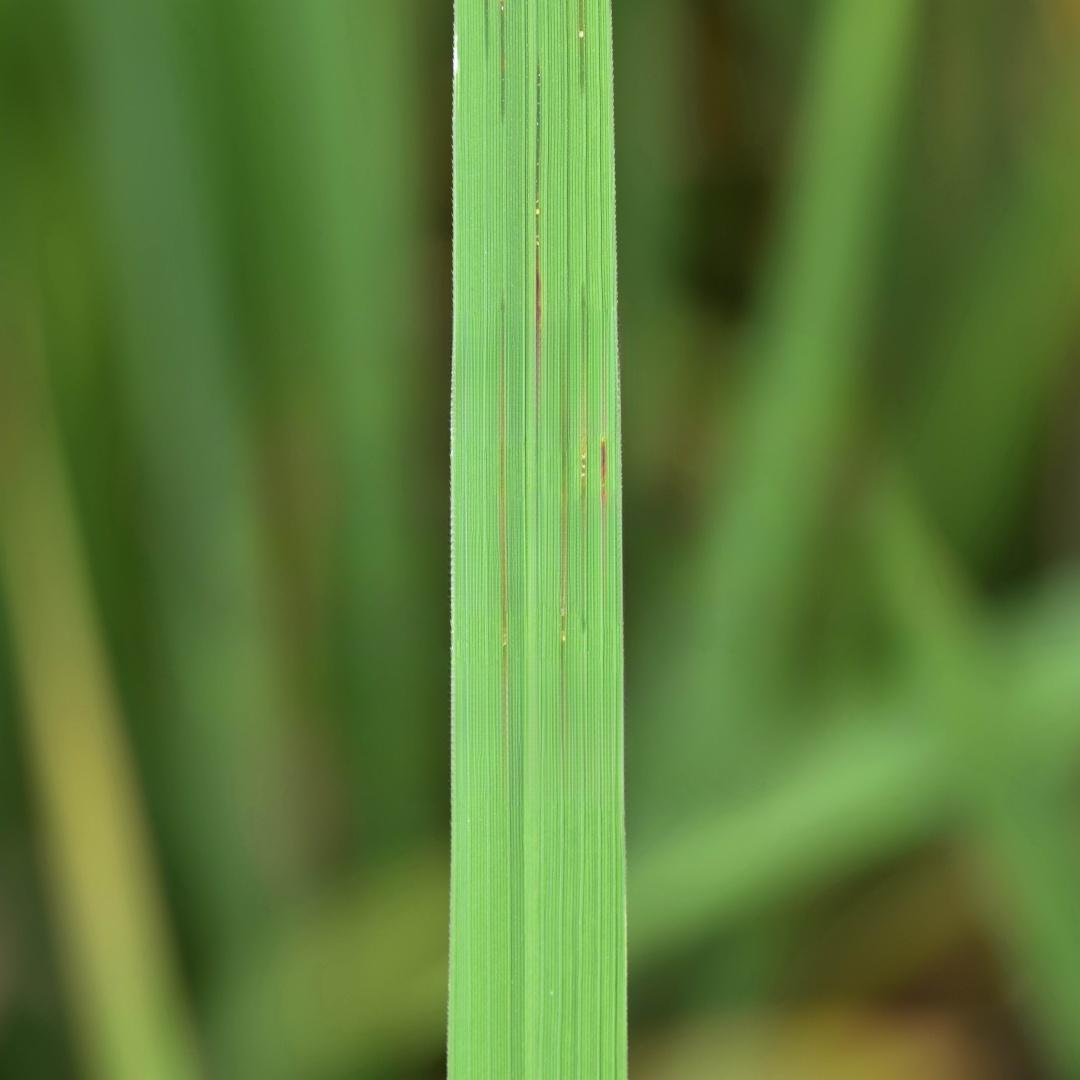BLS: (499, 297, 509, 719), (536, 59, 543, 452), (561, 376, 568, 736), (601, 347, 608, 553), (578, 0, 590, 92), (580, 409, 586, 509), (500, 0, 504, 128), (484, 0, 488, 81)
LEAF: (447, 0, 625, 1079)
